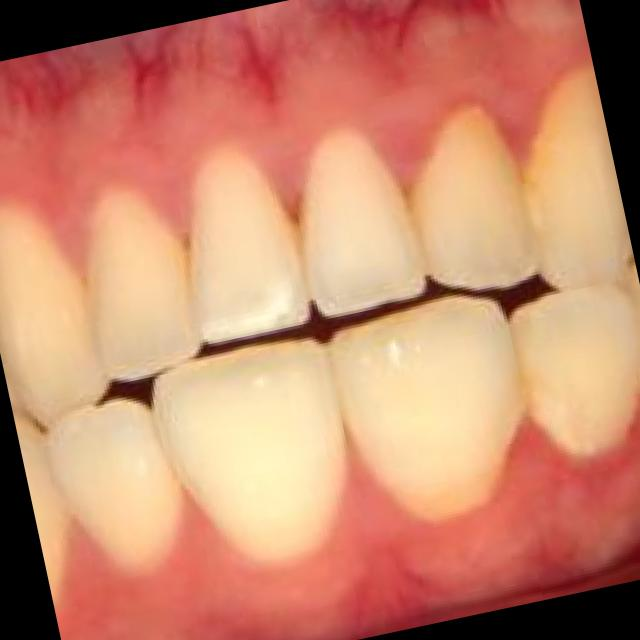cavity: (280, 194, 321, 264)
